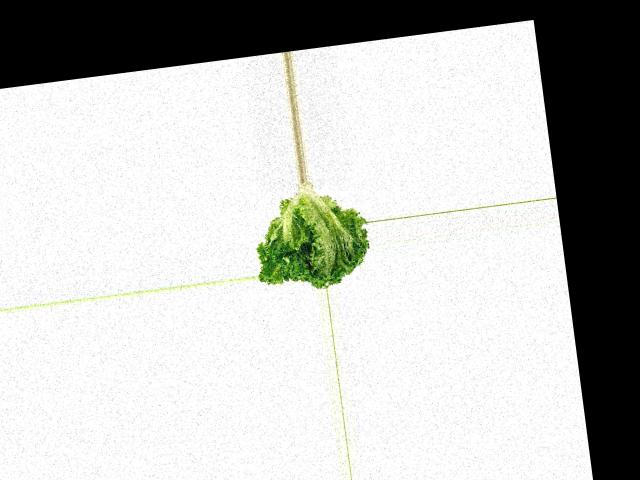lettuce: (248, 175, 374, 295)
